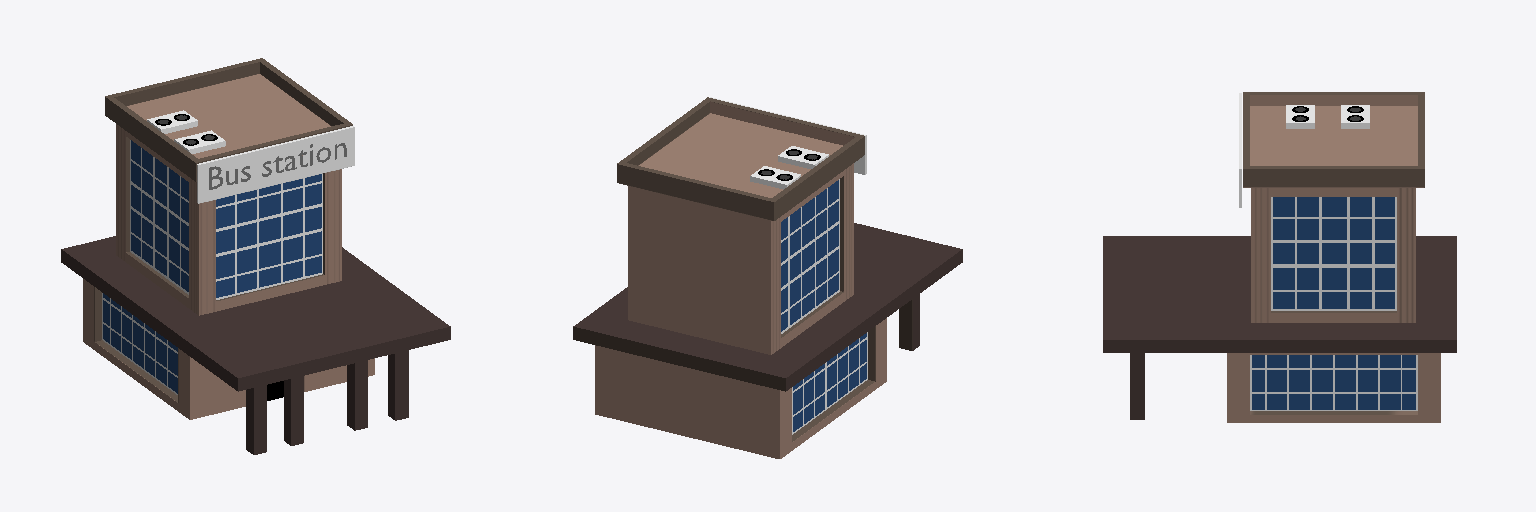
3 views of the same model, side by side, from view 1: azimuth 30°, elevation 25°; view 2: azimuth 150°, elevation 25°; view 3: azimuth 270°, elevation 25° (orthographic).
Visible parts, largest first — view 1: Cube.008_Cube.005, Plane, Cube.020_Cube.016, Plane.002, Cube.019_Cube.015, Cube.010_Cube.008, Text; view 2: Cube.008_Cube.005, Plane, Cube.020_Cube.016, Cube.019_Cube.015, Cube.010_Cube.008; view 3: Cube.008_Cube.005, Plane, Cube.020_Cube.016, Cube.019_Cube.015, Cube.010_Cube.008.
Boxes of the visible parts, x1,y1,x2,y2 form: Cube.008_Cube.005: [83, 58, 374, 419]; Plane: [61, 236, 450, 454]; Cube.020_Cube.016: [103, 140, 321, 393]; Plane.002: [197, 126, 354, 203]; Cube.019_Cube.015: [102, 140, 322, 394]; Cube.010_Cube.008: [147, 110, 225, 153]; Text: [209, 143, 346, 189]; Cube.008_Cube.005: [595, 97, 886, 458]; Plane: [573, 223, 962, 391]; Cube.020_Cube.016: [781, 180, 866, 431]; Cube.019_Cube.015: [781, 179, 867, 434]; Cube.010_Cube.008: [750, 146, 828, 189]; Cube.008_Cube.005: [1227, 92, 1440, 422]; Plane: [1103, 236, 1456, 419]; Cube.020_Cube.016: [1252, 197, 1415, 409]; Cube.019_Cube.015: [1250, 197, 1417, 410]; Cube.010_Cube.008: [1286, 105, 1369, 128].
Size of the model in its own units: 11.49 by 13 by 16.53.
Materials: 1 (1 with a texture image).